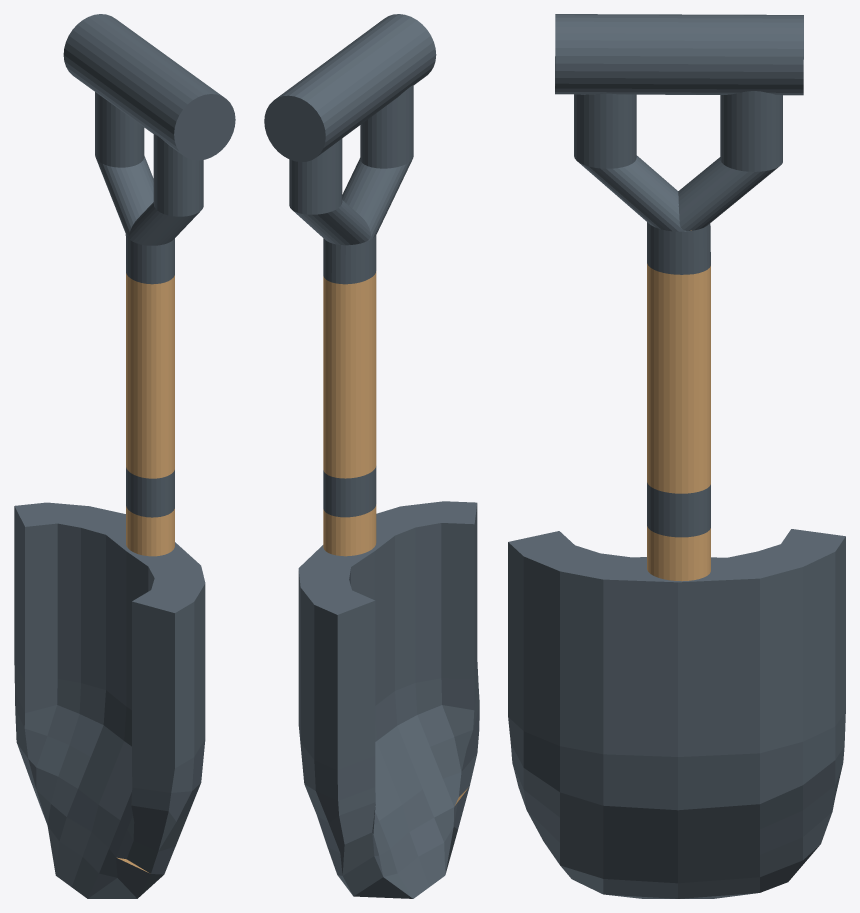
Rendered from shovel.fbx.
3 views of the same model, side by side, from view 1: azimuth 30°, elevation 25°; view 2: azimuth 150°, elevation 25°; view 3: azimuth 270°, elevation 25° (orthographic). The views are drawn at different scales.
Parts seen in each view (by area): view 1: shovel; view 2: shovel; view 3: shovel.
Part boxes in pixels (left/top/right/bottom): shovel: left=14, top=14, right=235, bottom=898; shovel: left=264, top=14, right=479, bottom=898; shovel: left=508, top=14, right=845, bottom=898.
Size of the model in its own units: 92.49 by 658 by 220.
